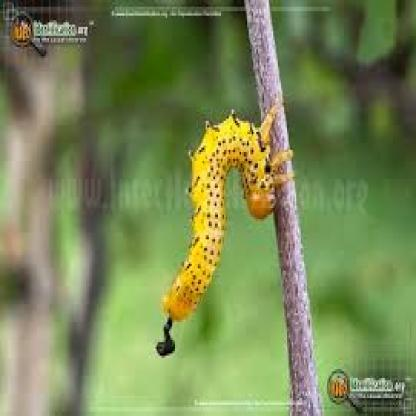sawfly: (158, 95, 299, 366)
